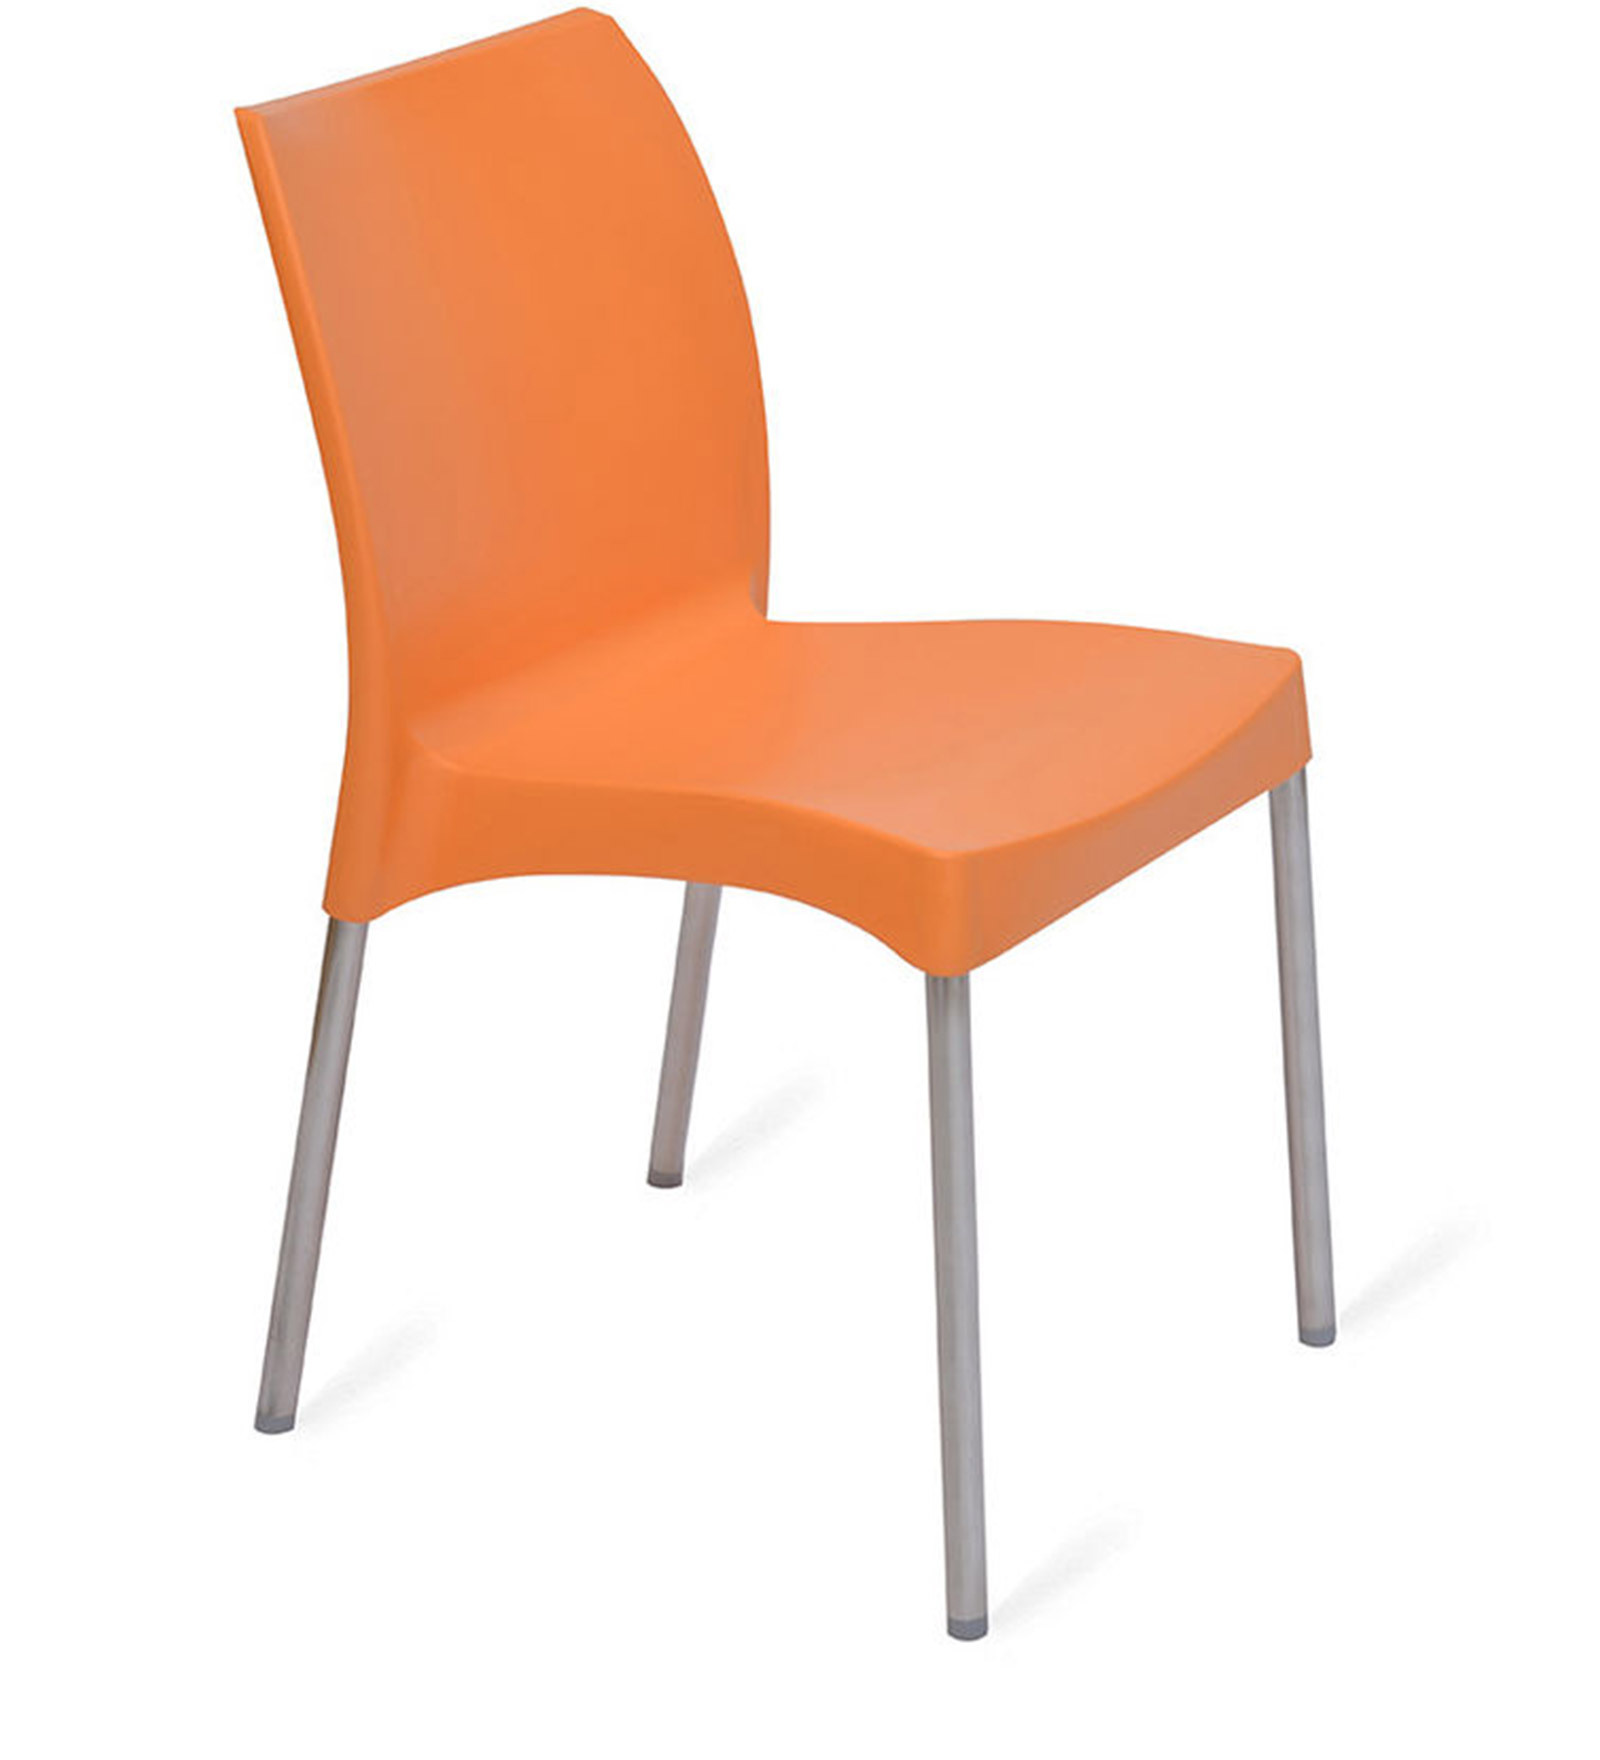Novella Series - 7 Chair (Set of 2) in Orange Colour by Nilkamal: (219, 8, 1359, 1645)
